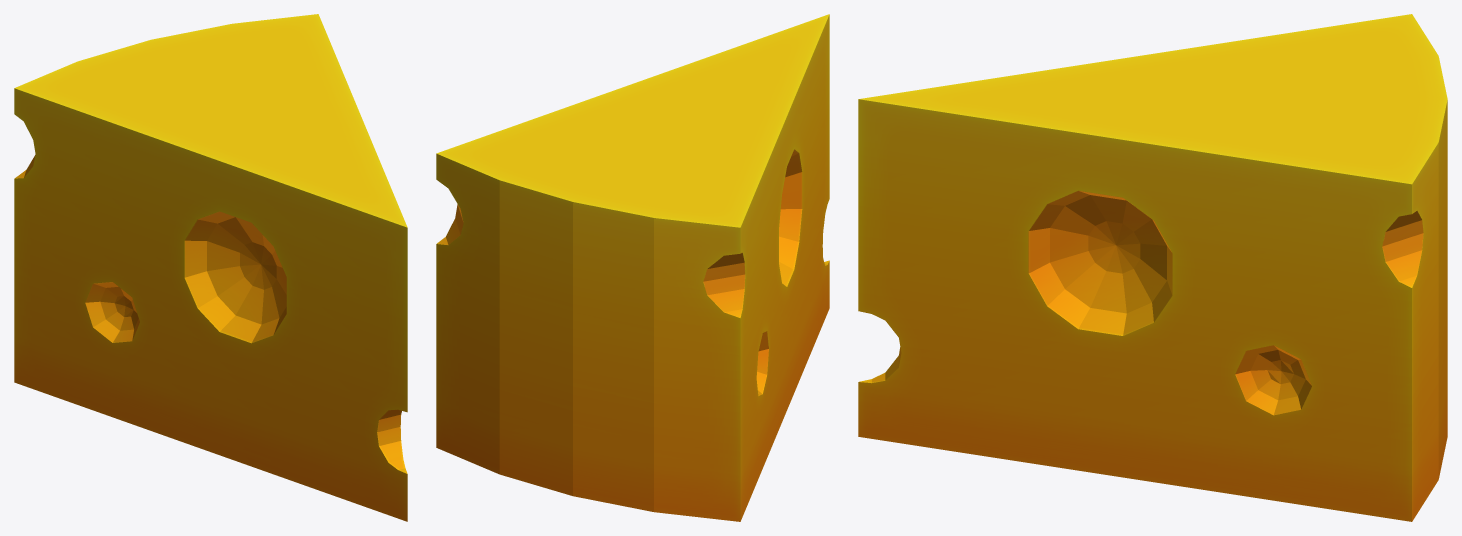
File: same_Cheese.FBX
3 renders of one model, left to right at view 1: azimuth 30°, elevation 25°; view 2: azimuth 150°, elevation 25°; view 3: azimuth 270°, elevation 25°, orthographic. The views are drawn at different scales.
Parts seen in each view (by area): view 1: Cheese; view 2: Cheese; view 3: Cheese.
Boxes of the visible parts, <box> form: Cheese: <box>14,14,407,521</box>; Cheese: <box>436,14,829,521</box>; Cheese: <box>858,14,1447,521</box>.
Bounding box in the file's own units: 24.09 × 22.26 × 35.21.
Materials: 1 (1 with a texture image).
